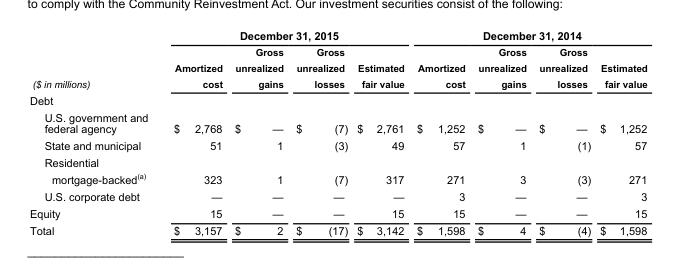table: (28, 29, 646, 236)
table column: (28, 29, 160, 236), (160, 29, 227, 236), (227, 29, 289, 236), (289, 29, 351, 236), (470, 29, 532, 236), (532, 29, 594, 236), (409, 29, 470, 236), (351, 29, 409, 236), (594, 29, 646, 236)
table column header: (28, 29, 646, 91)
table projected row header: (28, 91, 646, 108), (28, 153, 646, 169)
table row: (28, 43, 646, 91), (28, 108, 646, 136), (28, 169, 646, 187), (28, 187, 646, 205), (28, 91, 646, 108), (28, 136, 646, 153), (28, 205, 646, 222), (28, 153, 646, 169), (28, 29, 646, 43), (28, 222, 646, 236)
table spanning cell: (28, 29, 160, 91), (160, 29, 409, 43), (409, 29, 646, 43)
